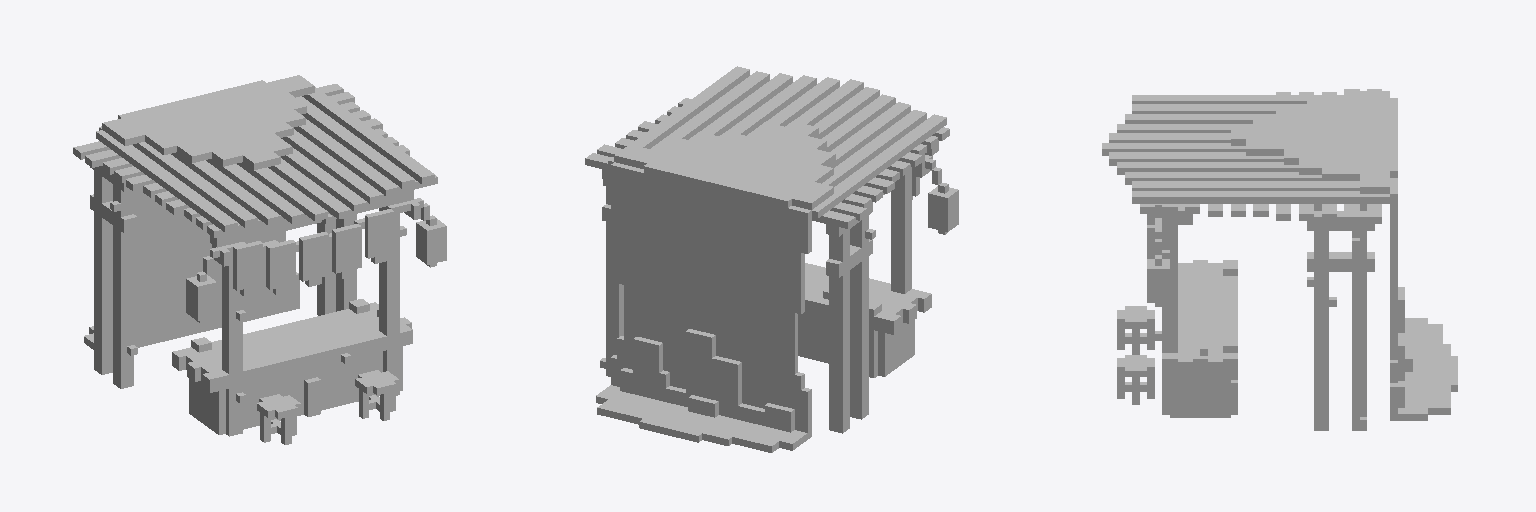
Rendered from stallYellowWhite-0.obj.
The picture shows the model from 3 angles: view 1: azimuth 30°, elevation 25°; view 2: azimuth 150°, elevation 25°; view 3: azimuth 270°, elevation 25°; orthographic projection.
Visible parts, largest first — view 1: object 1; view 2: object 1; view 3: object 1.
Boxes of the visible parts, x1,y1,x2,y2 form: object 1: [73, 75, 446, 444]; object 1: [585, 66, 958, 452]; object 1: [1102, 89, 1457, 430].
Bounding box in the file's own units: 4 × 3.4 × 4.7.